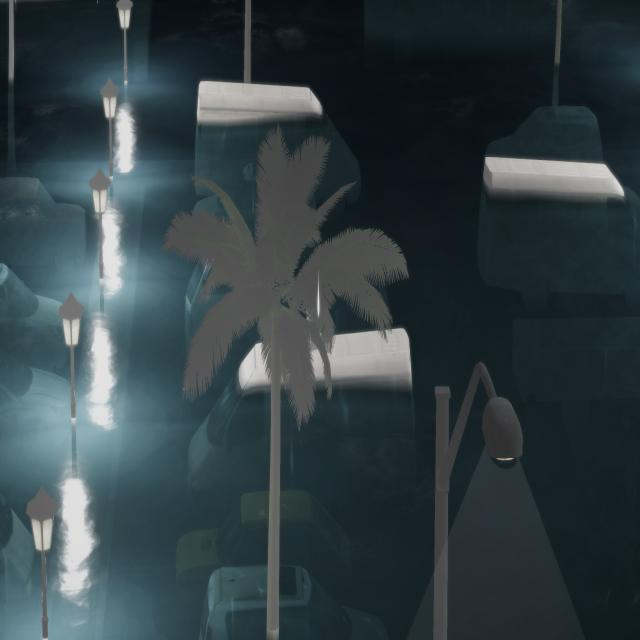Human: (296, 293, 334, 357)
